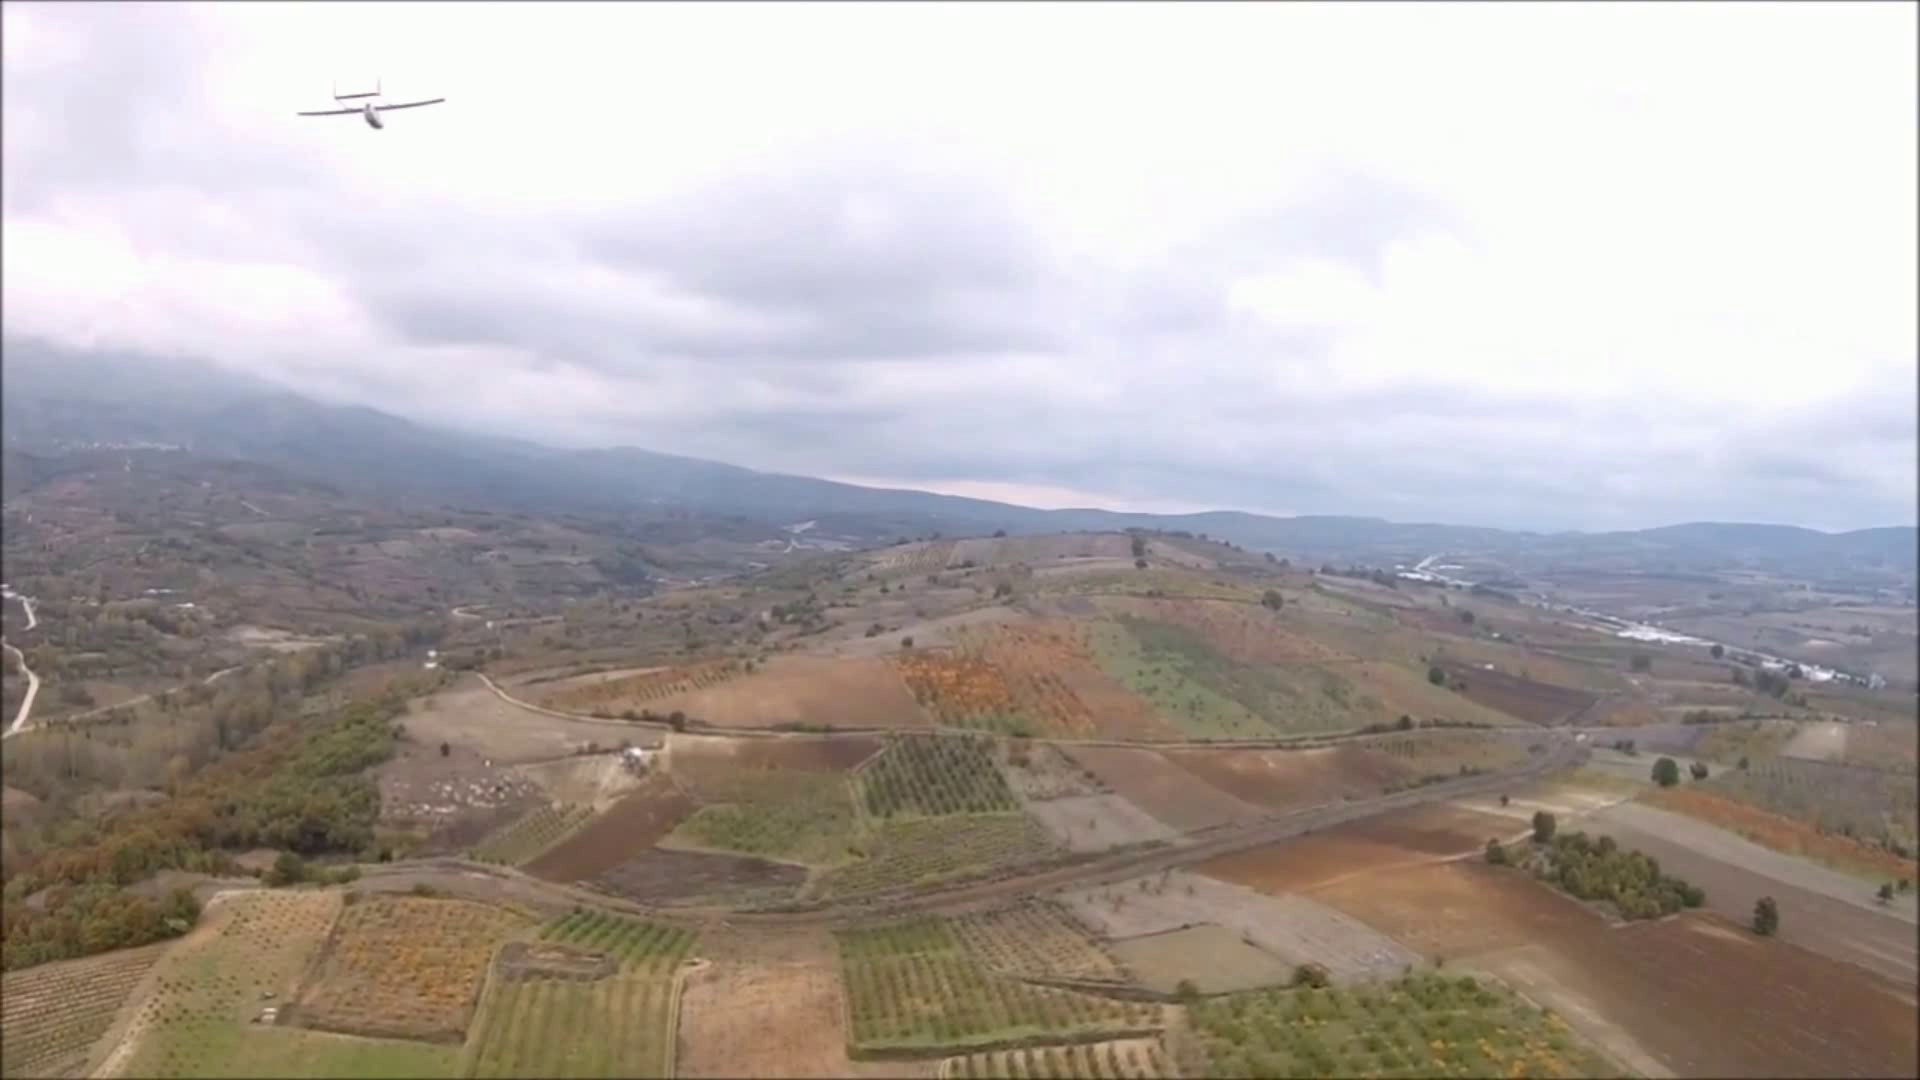airplane: (293, 87, 447, 132)
